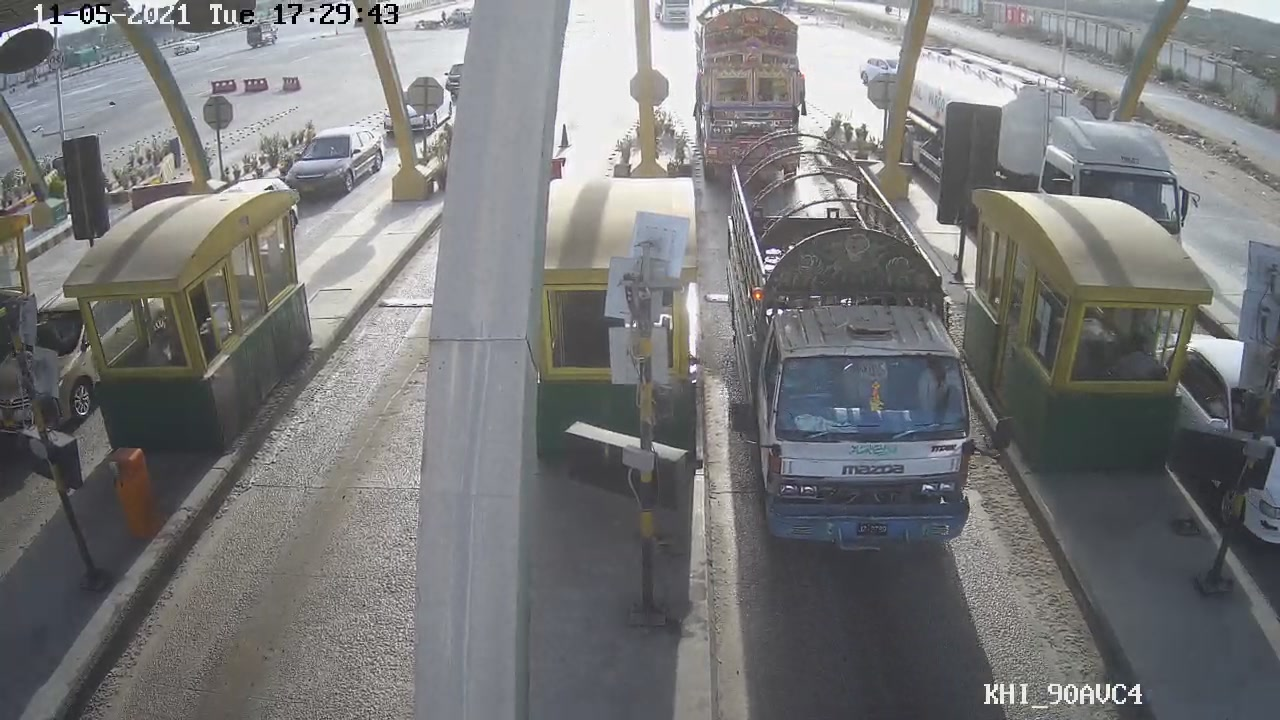F5: (708, 127, 977, 558)
